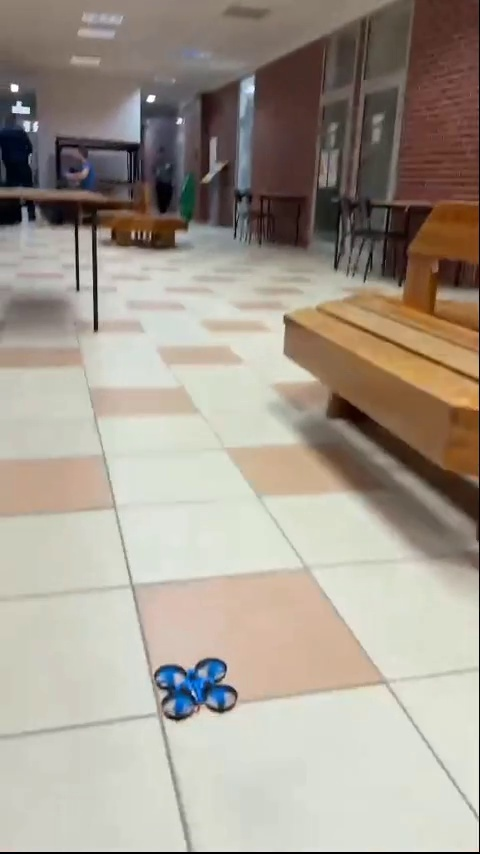drone: (153, 658, 239, 722)
no vest: (0, 111, 41, 222), (147, 138, 182, 214), (56, 141, 101, 196)
